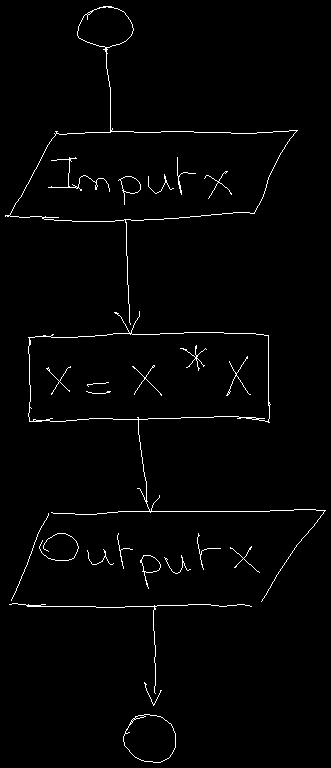arrow: (114, 219, 139, 334), (137, 417, 159, 512), (144, 605, 161, 705), (103, 47, 112, 132)
connection: (123, 714, 175, 762), (77, 6, 133, 47)
data: (9, 509, 325, 607), (5, 130, 297, 221)
process: (28, 332, 270, 422)
text: (39, 533, 259, 588), (46, 345, 250, 395), (48, 157, 231, 204)
